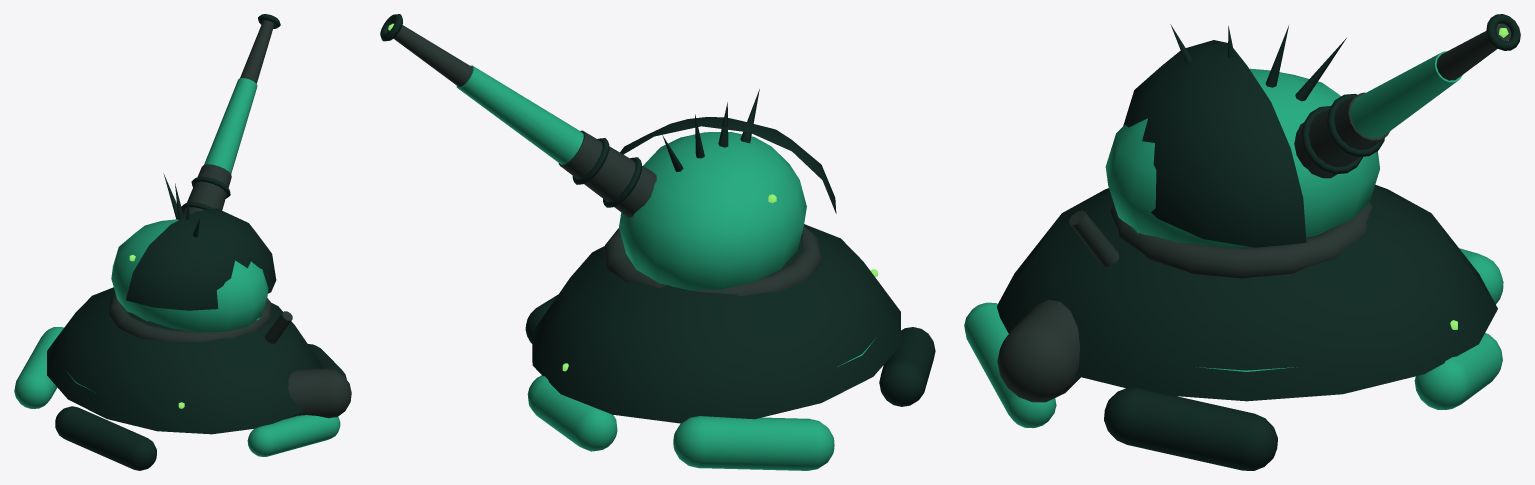
File: sentinel-turret-pelagia.glb
3 renders of one model, left to right at view 1: azimuth 30°, elevation 25°; view 2: azimuth 150°, elevation 25°; view 3: azimuth 270°, elevation 25°, orthographic. The views are drawn at different scales.
Parts seen in each view (by area): view 1: base_mound, head_cowl, head_pod, root_grip_3, ammo_pod, root_grip_2, barrel_mid, base_collar, root_grip_4, barrel_root, barrel_tip, feed_pipe (+1 smaller); view 2: base_mound, head_pod, root_grip_4, barrel_mid, root_grip_0, barrel_root, base_collar, root_grip_3, head_cowl, barrel_tip; view 3: base_mound, head_cowl, head_pod, root_grip_1, base_collar, ammo_pod, barrel_mid, root_grip_0, root_grip_2, barrel_root, barrel_tip, feed_pipe (+4 smaller).
Boxes of the visible parts, box(x1,y1,x2,y2) form: base_mound: box(47, 287, 321, 434); head_cowl: box(126, 208, 276, 310); head_pod: box(111, 219, 268, 332); root_grip_3: box(55, 406, 156, 470); ammo_pod: box(286, 368, 351, 418); root_grip_2: box(247, 415, 340, 456); barrel_mid: box(204, 78, 257, 173); base_collar: box(108, 294, 271, 342); root_grip_4: box(14, 327, 63, 408); barrel_root: box(183, 164, 231, 217); barrel_tip: box(240, 20, 274, 83); feed_pipe: box(265, 311, 292, 343); base_mound: box(532, 224, 901, 423); head_pod: box(619, 132, 806, 290); root_grip_4: box(673, 416, 834, 470); barrel_mid: box(456, 65, 583, 164); root_grip_0: box(527, 375, 617, 451); barrel_root: box(558, 130, 656, 217); base_collar: box(603, 226, 821, 296); root_grip_3: box(879, 327, 935, 406); head_cowl: box(620, 117, 836, 213); barrel_tip: box(388, 22, 472, 87); base_mound: box(997, 184, 1497, 401); head_cowl: box(1123, 40, 1306, 247); head_pod: box(1105, 68, 1379, 248); root_grip_1: box(1104, 387, 1277, 470); base_collar: box(1110, 202, 1372, 278); ammo_pod: box(997, 299, 1080, 402); barrel_mid: box(1350, 51, 1462, 138); root_grip_0: box(1414, 333, 1502, 409); root_grip_2: box(964, 302, 1056, 428); barrel_root: box(1294, 92, 1390, 178); barrel_tip: box(1436, 23, 1511, 80); feed_pipe: box(1069, 210, 1119, 266).
Bounding box in the file's own units: 116 × 106 × 111.
